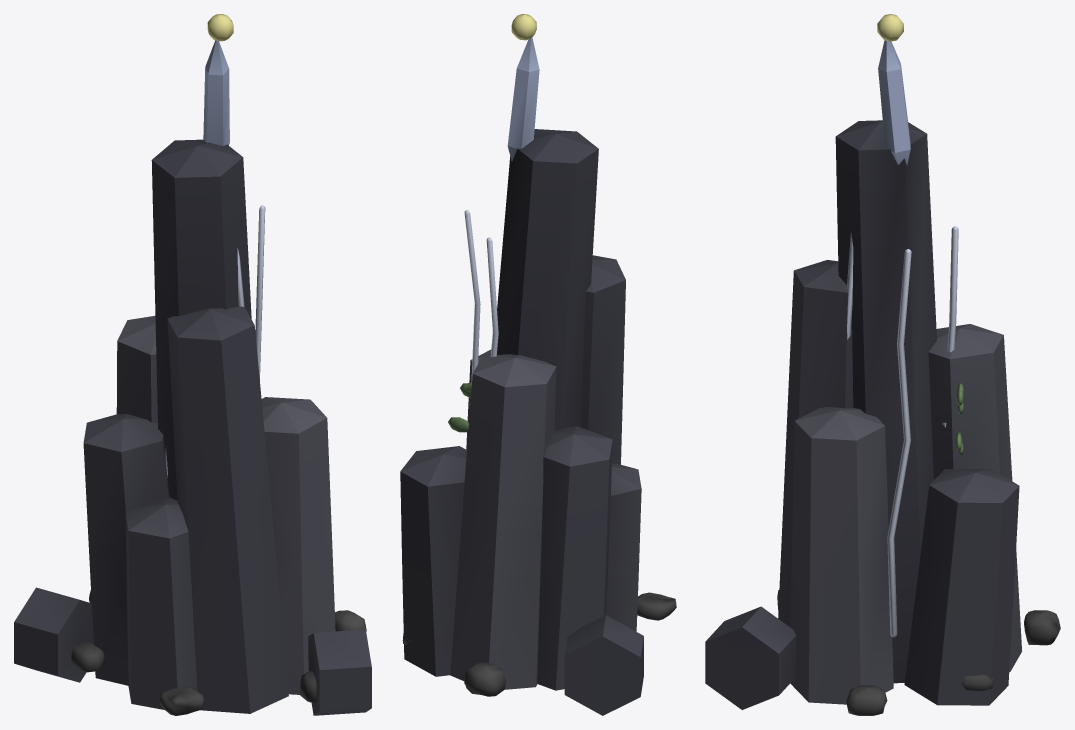
The model's file is crag.glb.
3 views of the same model, side by side, from view 1: azimuth 30°, elevation 25°; view 2: azimuth 150°, elevation 25°; view 3: azimuth 270°, elevation 25° (orthographic). The views are drawn at different scales.
Parts seen in each view (by area): view 1: crag; view 2: crag; view 3: crag.
Part boxes in pixels (box(x1,y1,x2,y2)): crag: box(14, 14, 371, 715); crag: box(400, 14, 676, 715); crag: box(705, 14, 1060, 715).
Size of the model in its own units: 1.92 by 4.14 by 2.02.
